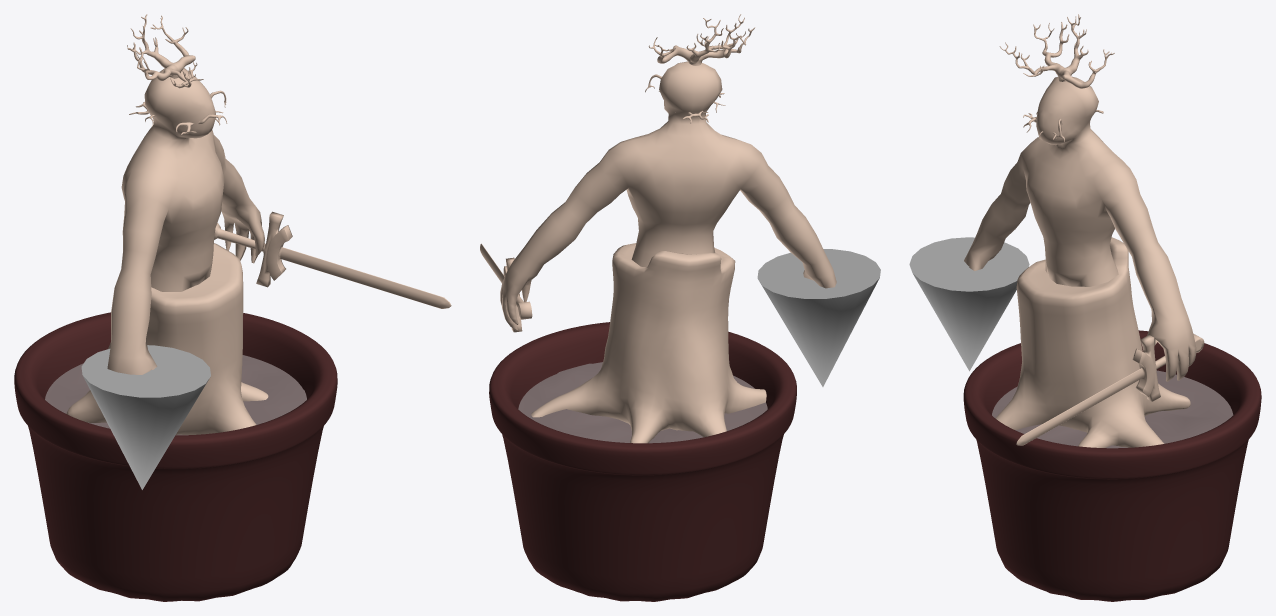
The model's file is xthistle.fbx.
3 renders of one model, left to right at view 1: azimuth 30°, elevation 25°; view 2: azimuth 150°, elevation 25°; view 3: azimuth 270°, elevation 25°, orthographic. The views are drawn at different scales.
Visible parts, largest first — view 1: potten, Alien_HorrorStyle, trestump, pCone1, pCylinder1, sword, LeaflessTree; view 2: potten, Alien_HorrorStyle, trestump, pCone1, pCylinder1, LeaflessTree, sword; view 3: potten, Alien_HorrorStyle, trestump, pCone1, pCylinder1, sword, LeaflessTree.
Boxes of the visible parts, x1,y1,x2,y2 form: potten: (14,312,337,601); Alien_HorrorStyle: (107,68,264,374); trestump: (66,243,268,434); pCone1: (81,345,210,489); pCylinder1: (45,355,306,435); sword: (214,211,451,308); LeaflessTree: (127,14,227,134); potten: (489,322,796,601); Alien_HorrorStyle: (500,61,836,330); trestump: (531,243,766,443); pCone1: (757,249,880,386); pCylinder1: (518,362,767,443); LeaflessTree: (645,14,755,123); sword: (480,243,532,332); potten: (963,330,1261,601); Alien_HorrorStyle: (964,76,1196,381); trestump: (995,237,1190,447); pCone1: (909,237,1029,371); pCylinder1: (992,370,1233,448); sword: (1016,334,1204,445); LeaflessTree: (999,14,1114,141).
Bounding box in the file's own units: 3.29 × 4.62 × 2.81.
